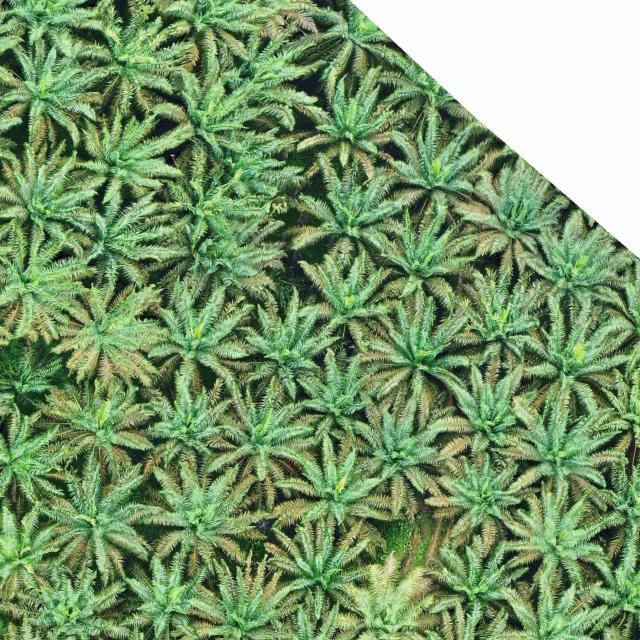Tree: (133, 451, 272, 575), (280, 148, 411, 278), (502, 383, 634, 503), (38, 452, 152, 590), (352, 305, 476, 426), (47, 275, 171, 390), (223, 279, 333, 406), (79, 6, 199, 121), (427, 358, 544, 473), (284, 78, 404, 190), (144, 55, 266, 165), (21, 374, 158, 471), (154, 213, 290, 310), (60, 182, 182, 289), (505, 311, 625, 419), (0, 30, 104, 154), (0, 136, 97, 268), (344, 394, 448, 517), (141, 277, 255, 388), (0, 218, 98, 347), (203, 398, 316, 509), (168, 544, 296, 640), (321, 542, 446, 640), (367, 205, 478, 315), (70, 110, 196, 206), (501, 487, 607, 597), (154, 154, 270, 254), (292, 250, 403, 354), (222, 29, 331, 134), (262, 522, 368, 628), (272, 436, 388, 531), (418, 536, 530, 631), (0, 559, 131, 639), (147, 363, 241, 470), (426, 452, 532, 544), (291, 338, 376, 448), (452, 263, 548, 359), (118, 547, 210, 640), (160, 0, 282, 64), (577, 525, 640, 640), (0, 411, 70, 513), (0, 505, 61, 616), (0, 0, 106, 63), (487, 584, 600, 640), (581, 366, 640, 470), (587, 449, 640, 562), (262, 600, 379, 640), (405, 598, 516, 640), (66, 0, 194, 28)
